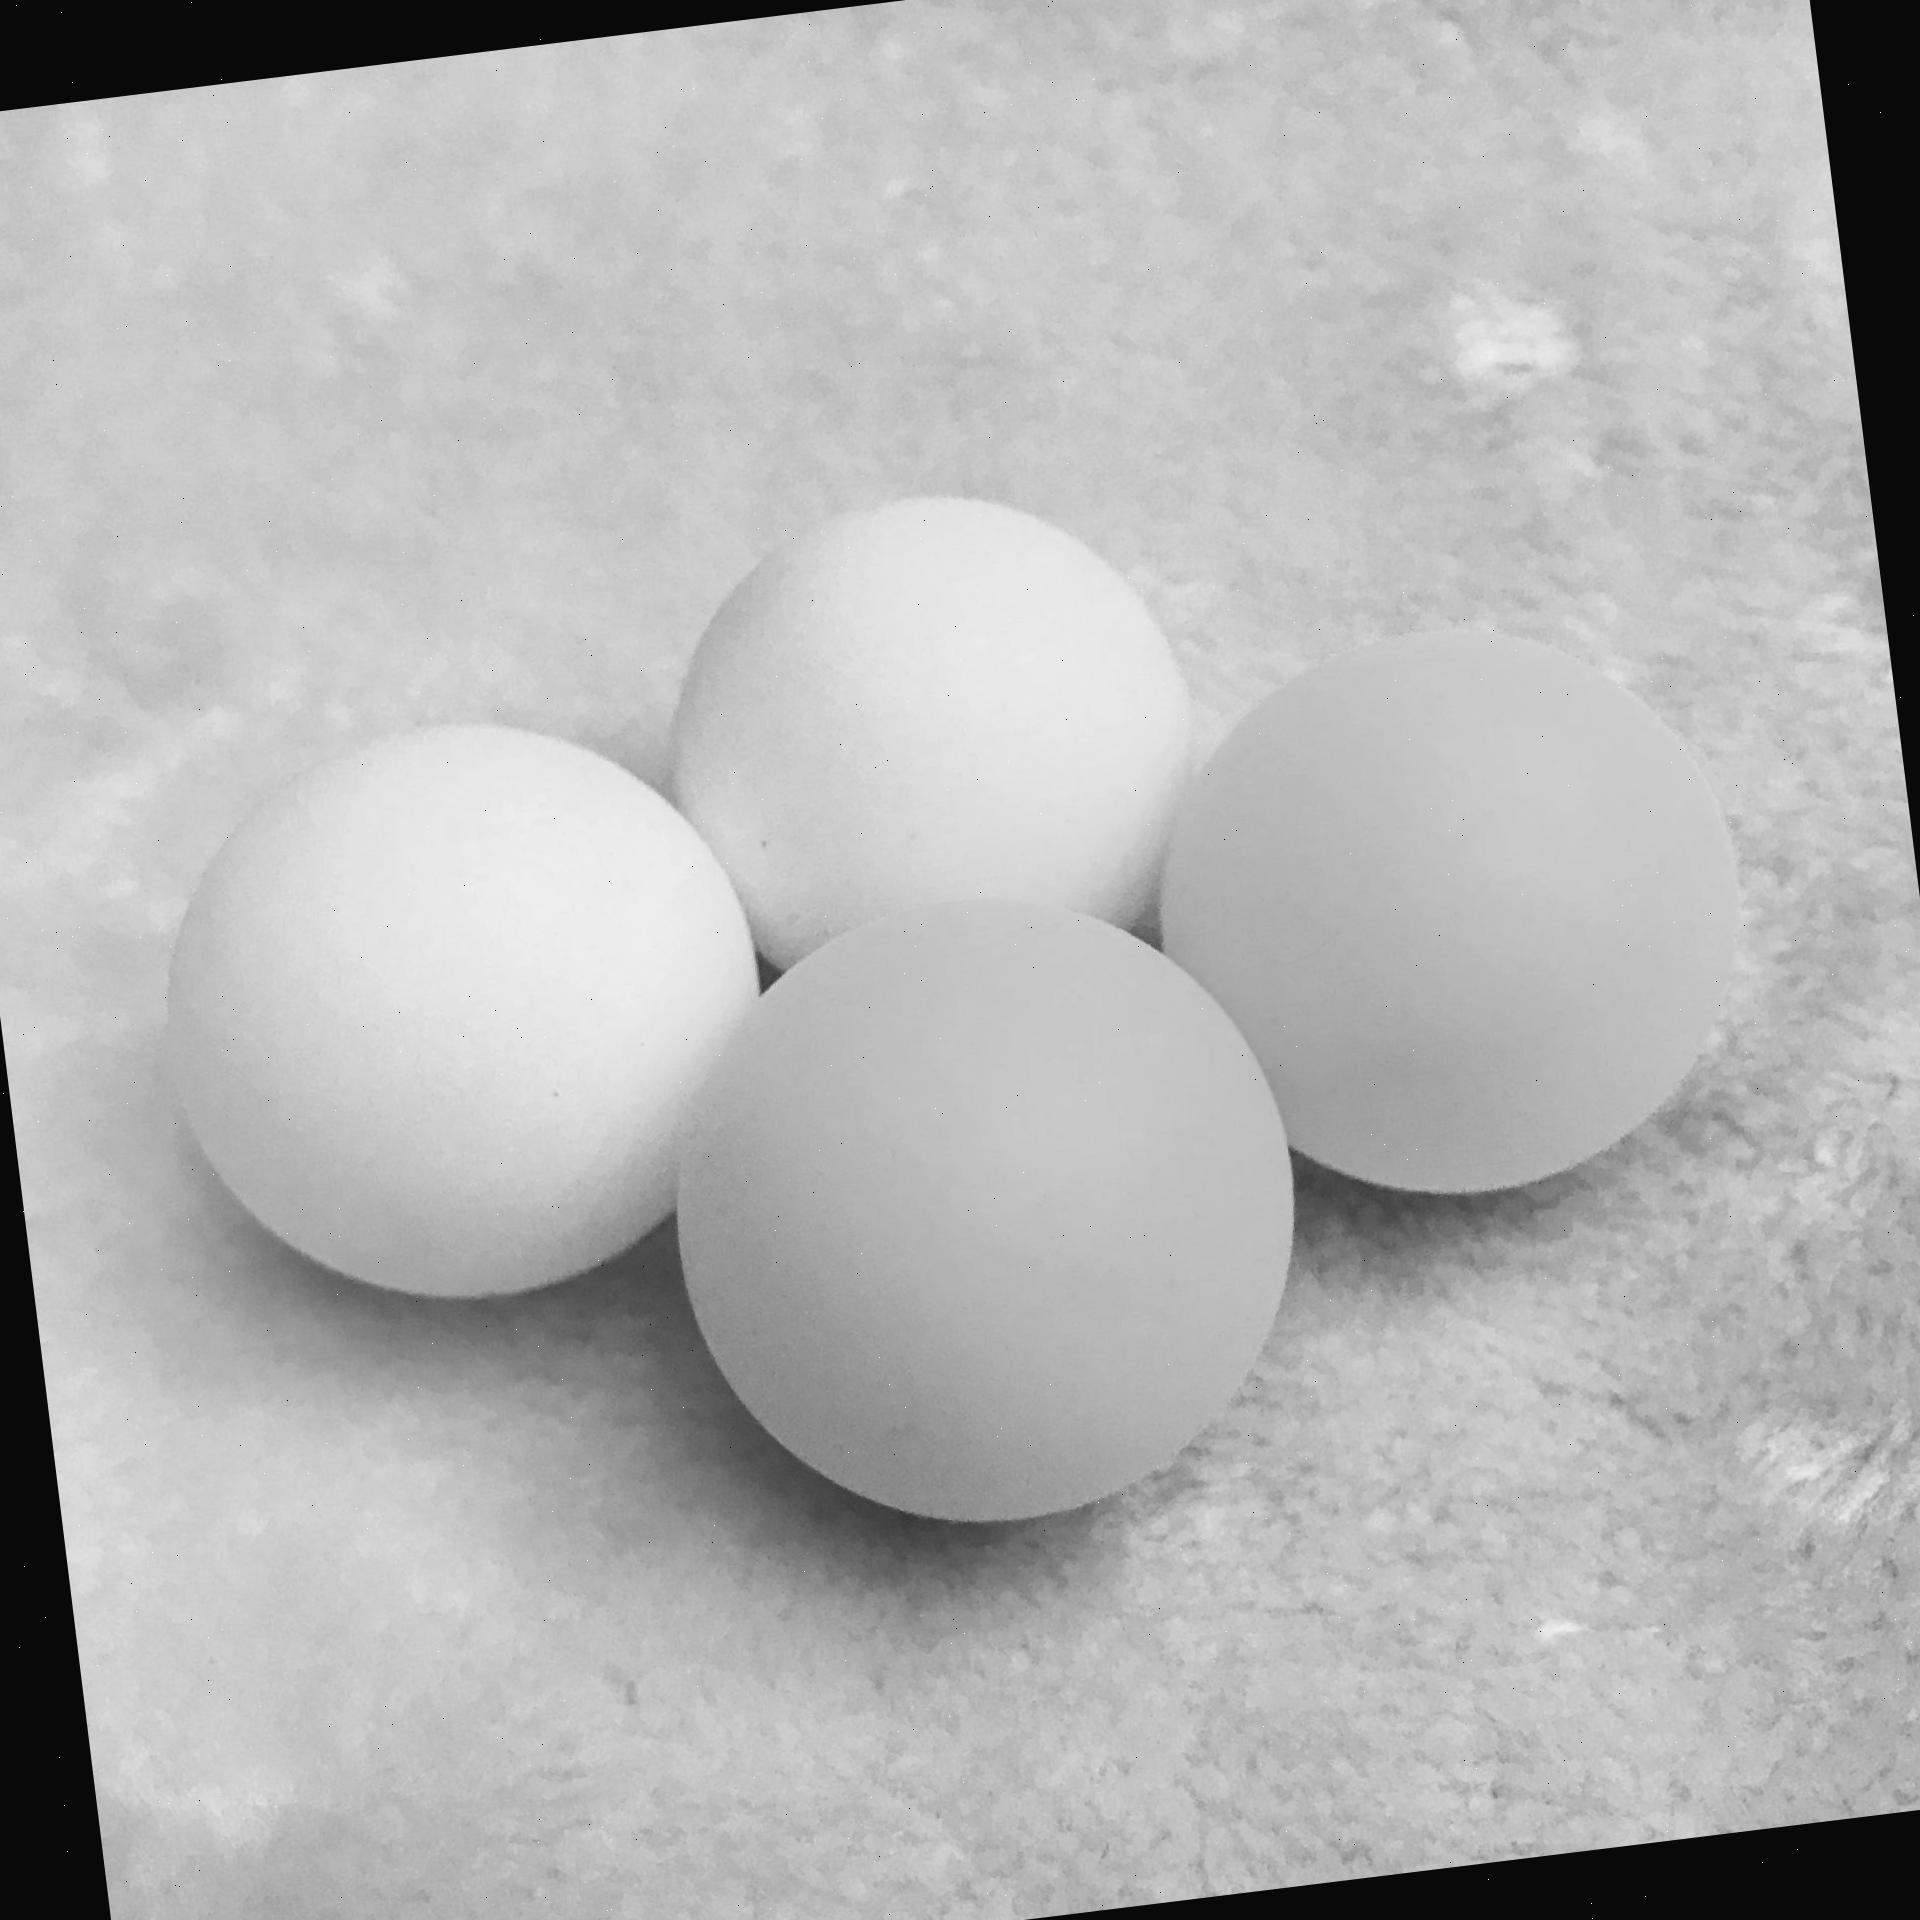ball: (614, 847, 1347, 1575), (1106, 577, 1790, 1250), (116, 679, 802, 1336), (626, 455, 1234, 1030)
